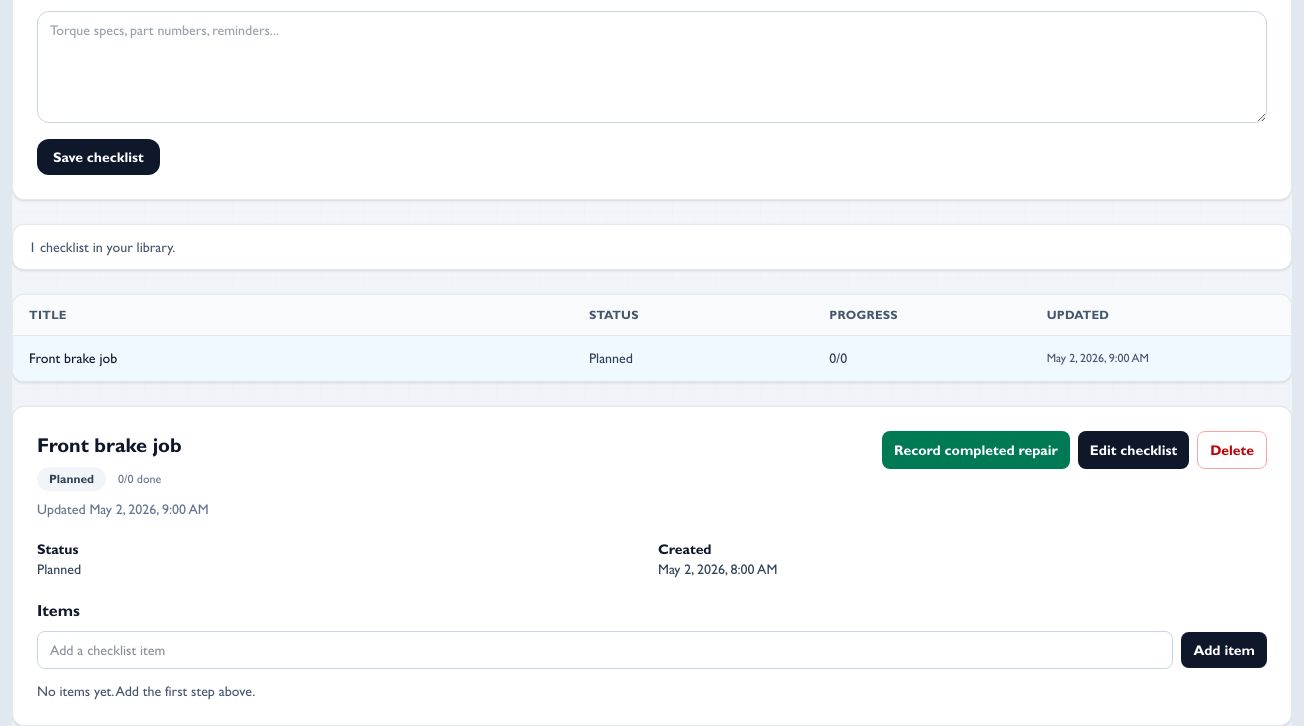
Scenario: the symptom picker is optional, searched a page at a time, and loaded only when the form opens
(page scrolled)
Expected: the heading "Front brake job" is shown, [37, 433, 182, 457]
What coordinates should you click on to do the following:
click the button "Record completed repair"
I would click on:
 (976, 450)
Its box is [882, 431, 1070, 469].
(page scrolled)
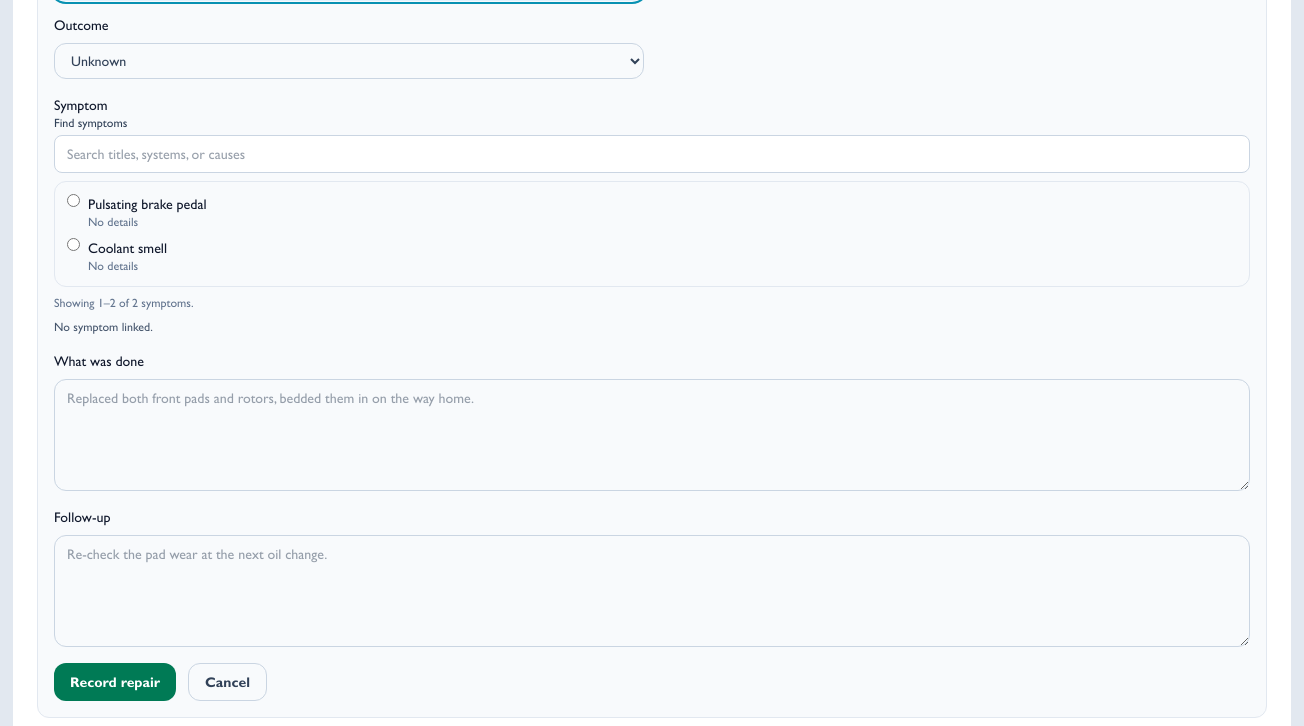
Now the text "No symptom linked." is shown, box [54, 319, 153, 335]
